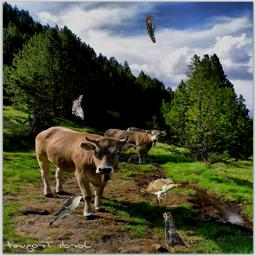Crow: (163, 212, 189, 252)
Cuckoo: (46, 193, 86, 229), (139, 178, 179, 205)
Sparrow: (72, 95, 84, 120)
Woodpecker: (146, 16, 156, 43)
